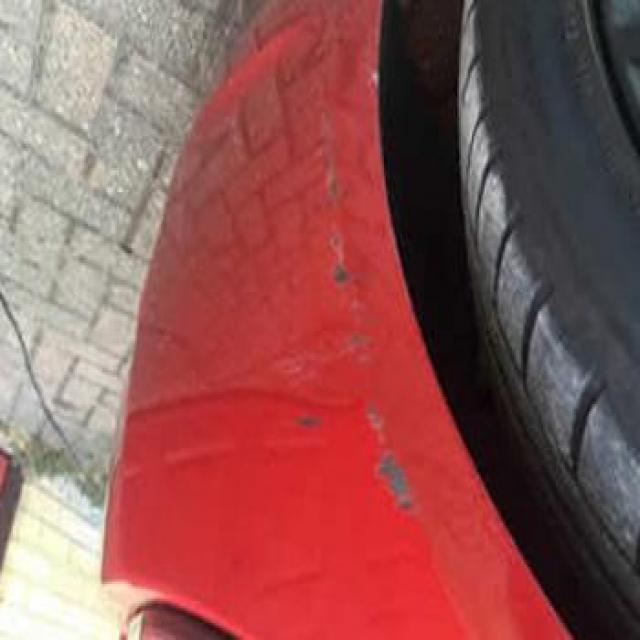scratch: (284, 89, 434, 561)
